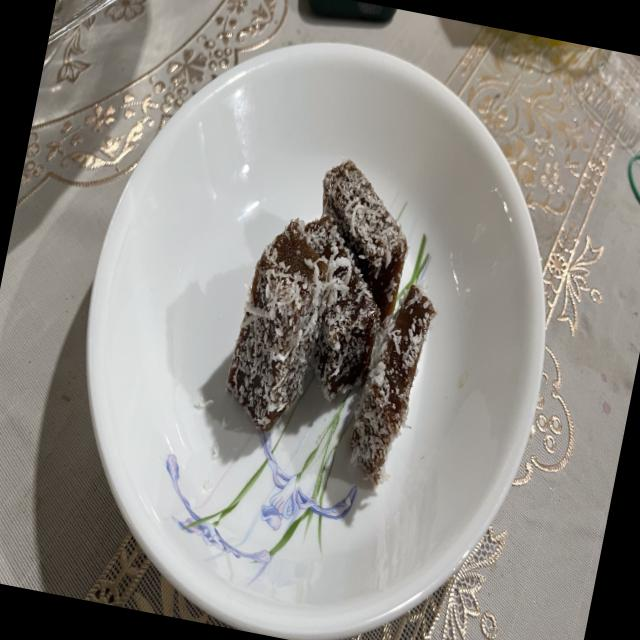kaswi: (227, 218, 328, 432), (351, 286, 436, 485), (303, 216, 380, 401), (323, 160, 408, 323)
